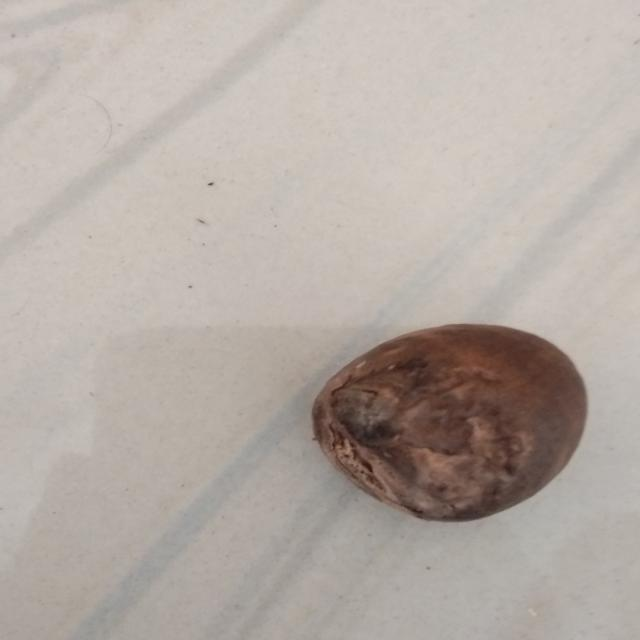karigot: (297, 321, 632, 526)
